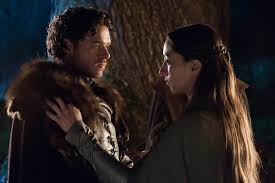Bad: (8, 6, 263, 183)
